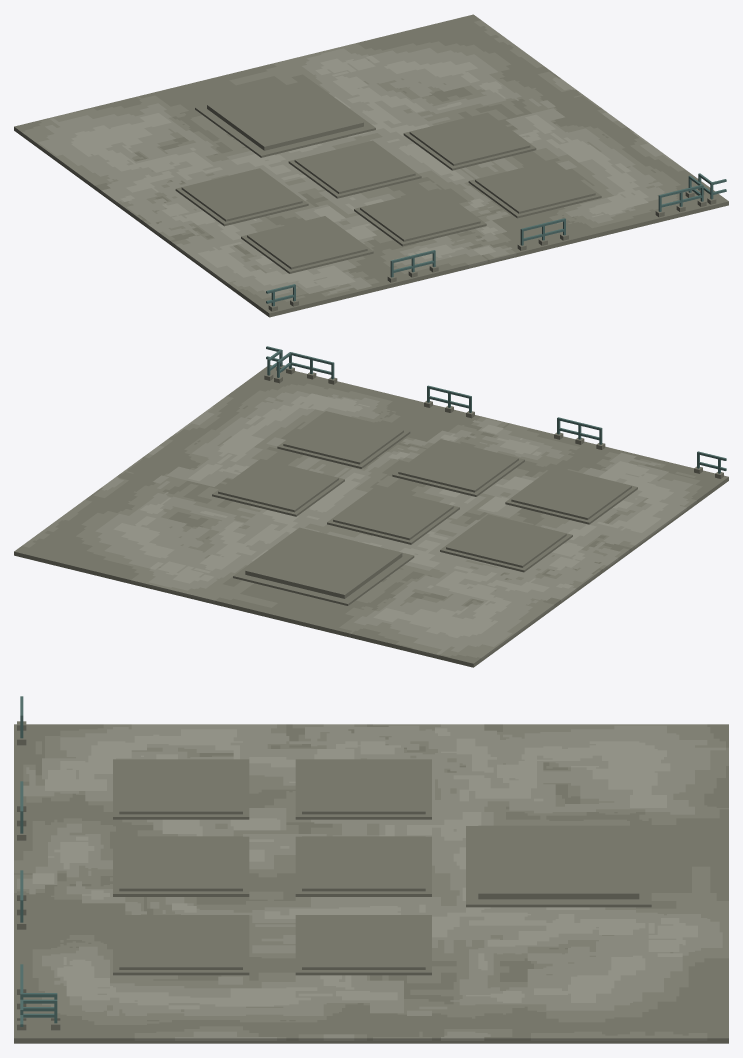
The model's file is Map-17.obj.
3 views of the same model, one above another, from view 1: azimuth 30°, elevation 25°; view 2: azimuth 150°, elevation 25°; view 3: azimuth 270°, elevation 25° (orthographic). The views are drawn at different scales.
Size of the model in its own units: 24 by 1.2 by 23.1.
1 material, 1 textured.
